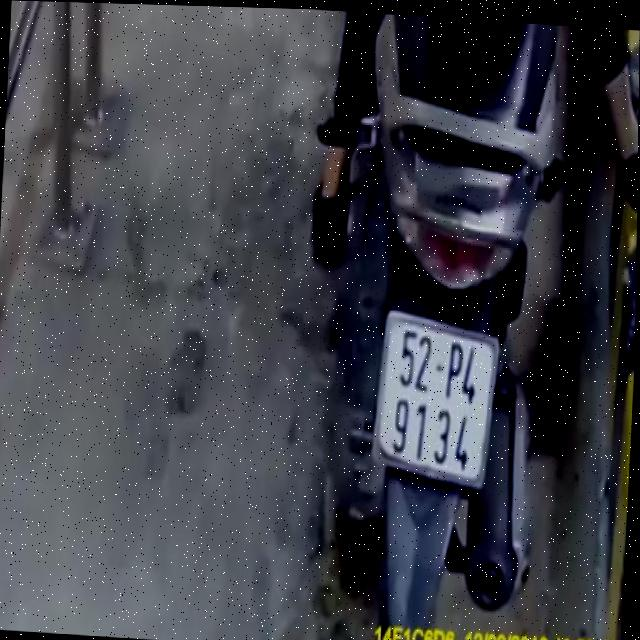motorcycle: (318, 11, 573, 640)
plate: (368, 309, 504, 490)
